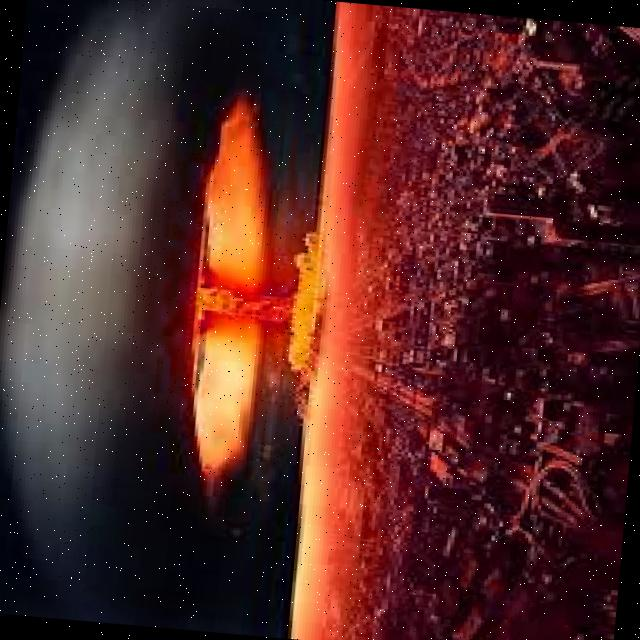explosion: (146, 165, 337, 423)
